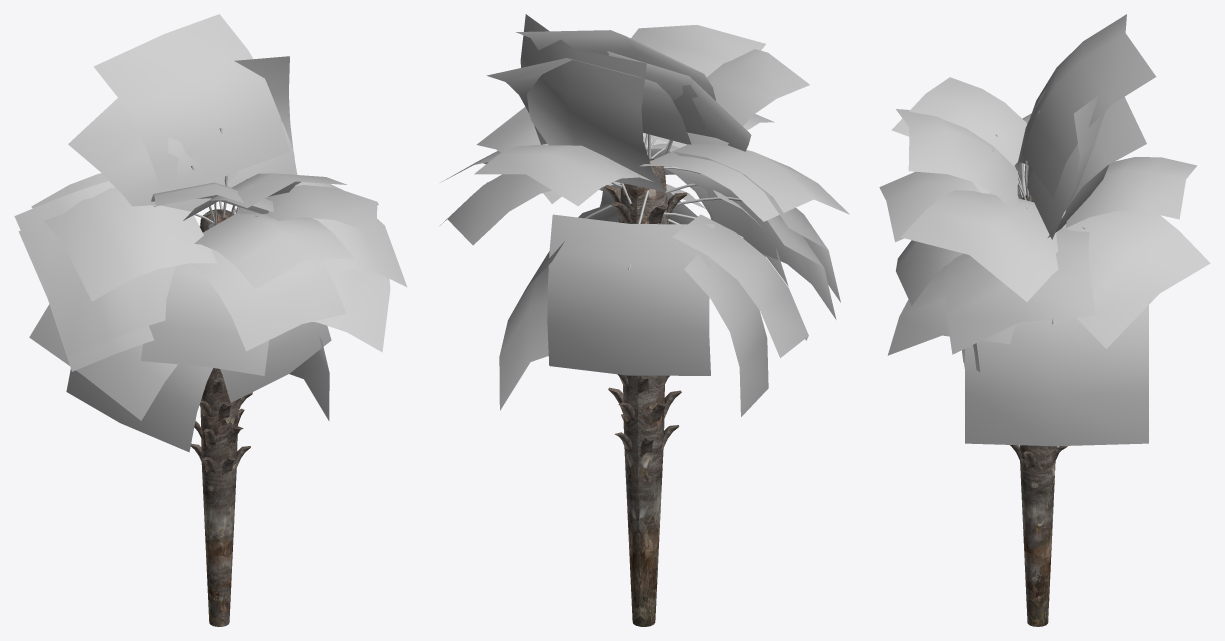
File: palm5.dae
The picture shows the model from 3 angles, left to right: view 1: azimuth 30°, elevation 25°; view 2: azimuth 150°, elevation 25°; view 3: azimuth 270°, elevation 25°; orthographic projection. The views are drawn at different scales.
Visible parts, largest first — view 1: palm5; view 2: palm5; view 3: palm5.
Part boxes in pixels (x1,y1,x2,y2): palm5: (14,14,407,626); palm5: (440,14,849,626); palm5: (879,14,1210,626).
Size of the model in its own units: 188 by 308 by 159.
